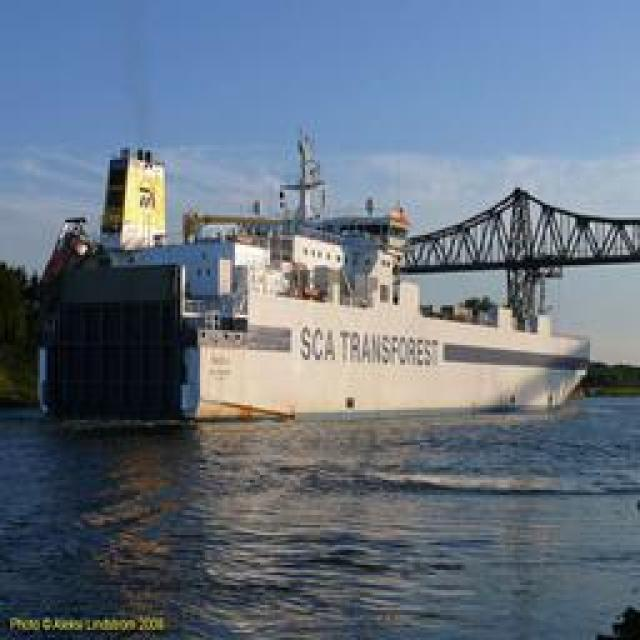CIV_Ship: (166, 166, 596, 419)
